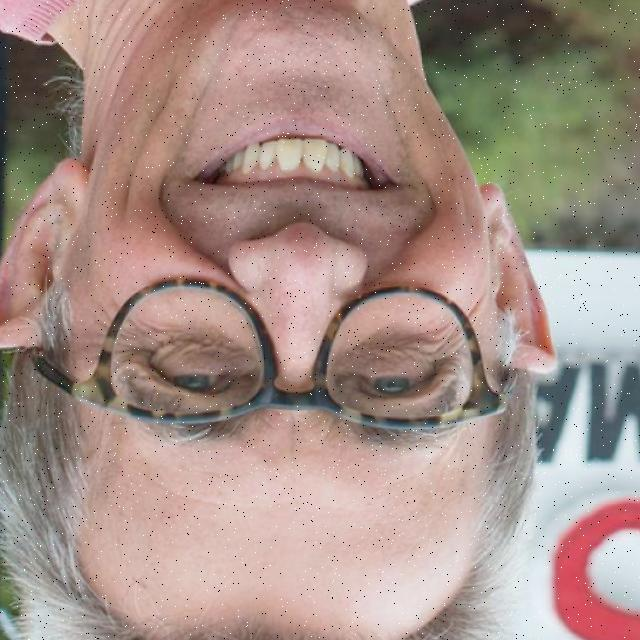puffy_eyes: (351, 348, 432, 375), (156, 344, 237, 369)
